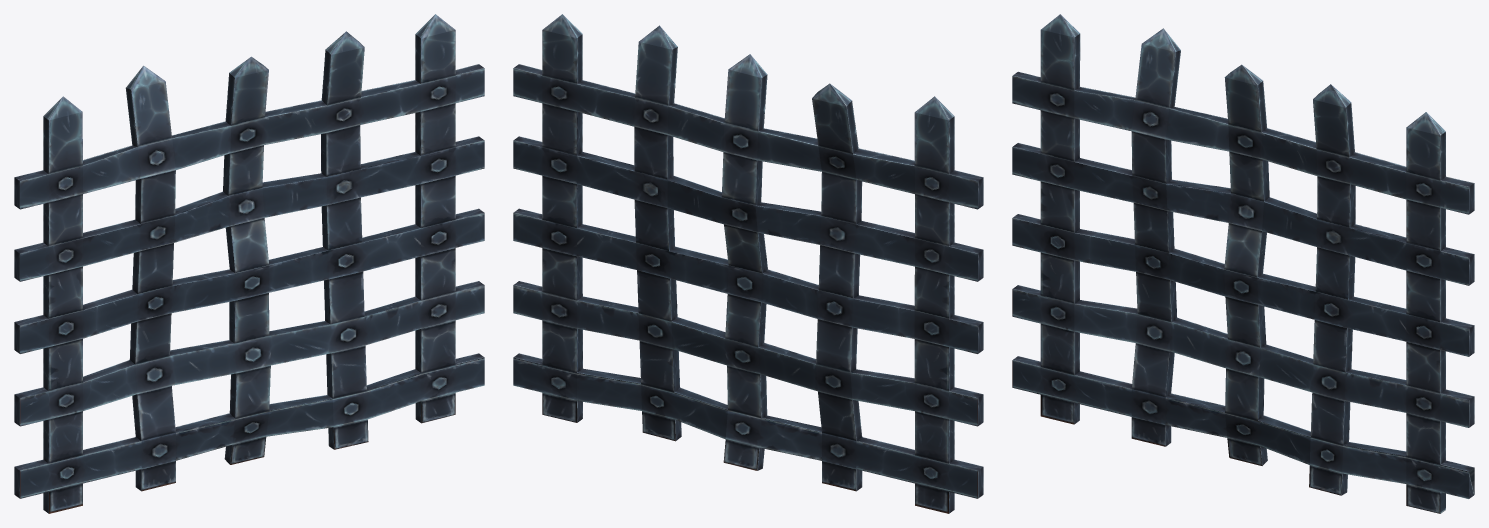
Rendered from Metal_grid_1.fbx.
3 renders of one model, left to right at view 1: azimuth 30°, elevation 25°; view 2: azimuth 150°, elevation 25°; view 3: azimuth 330°, elevation 25°, orthographic.
Parts seen in each view (by area): view 1: Metal_grid_1; view 2: Metal_grid_1; view 3: Metal_grid_1.
Boxes of the visible parts, left/top/right/bottom form: Metal_grid_1: left=14, top=14, right=484, bottom=513; Metal_grid_1: left=513, top=14, right=983, bottom=513; Metal_grid_1: left=1012, top=14, right=1474, bottom=513.
Bounding box in the file's own units: 2 × 1.7 × 0.1688.
